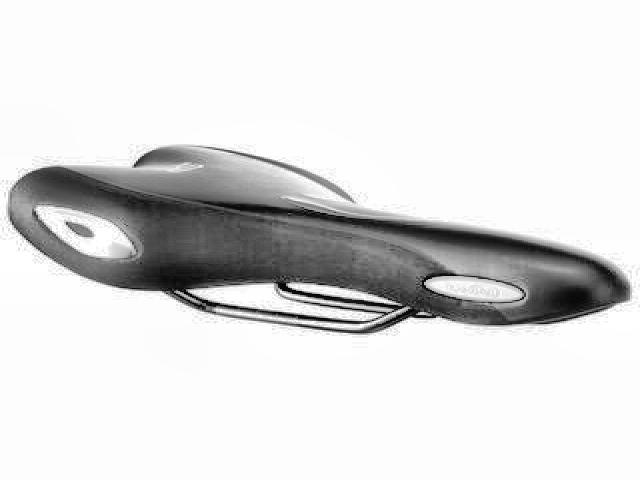saddle: (5, 141, 632, 339)
